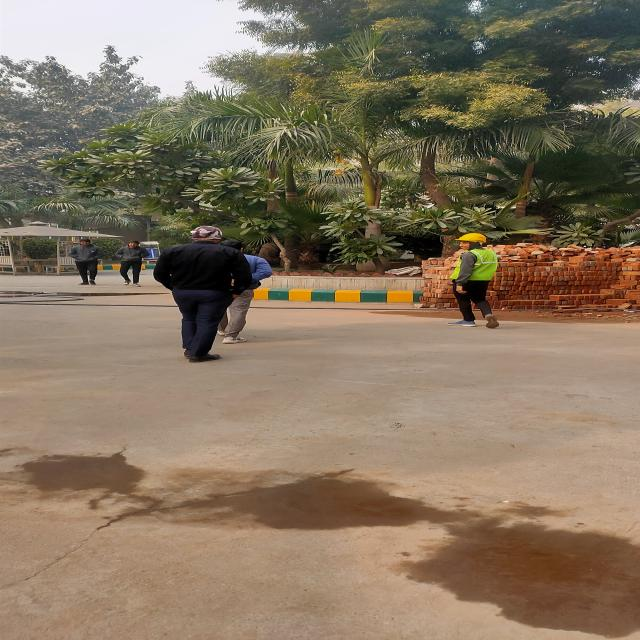safe: (451, 233, 502, 329)
unsafe: (151, 224, 245, 362), (64, 234, 107, 288), (115, 238, 152, 286)
